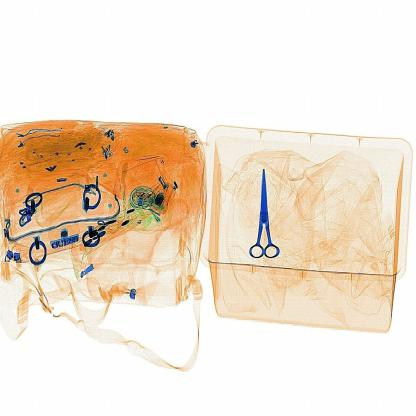gun: (242, 148, 282, 271)
